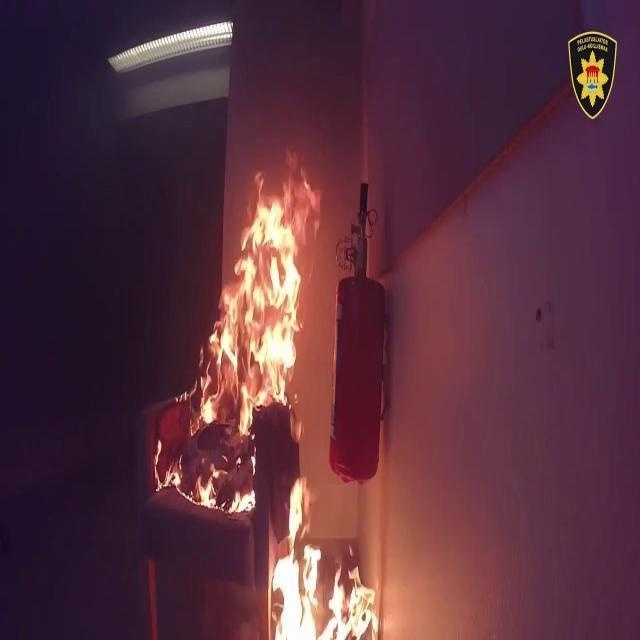fire: (143, 177, 388, 640)
